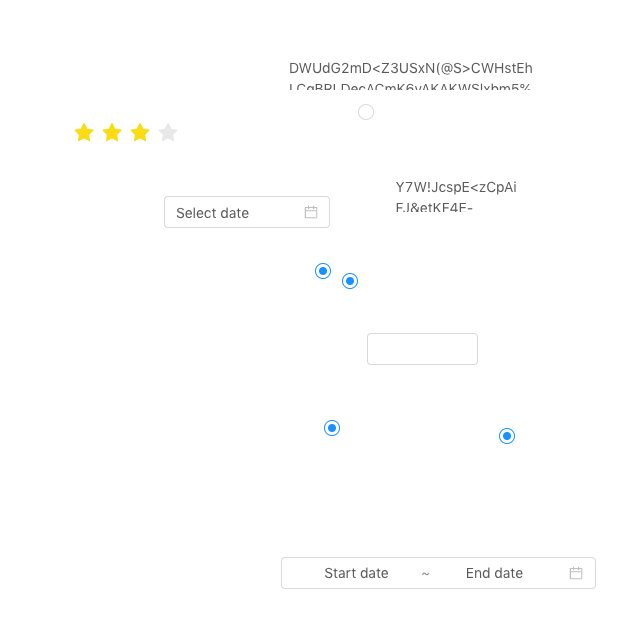DatePicker: (164, 196, 330, 228)
Input: (367, 333, 478, 365)
Radio: (358, 101, 374, 121), (315, 260, 331, 280), (342, 270, 358, 290), (499, 425, 515, 445), (324, 417, 340, 437)
RangePicker: (281, 557, 596, 589)
Rate: (74, 116, 194, 148)
Text: (289, 57, 535, 90), (396, 176, 519, 212)
